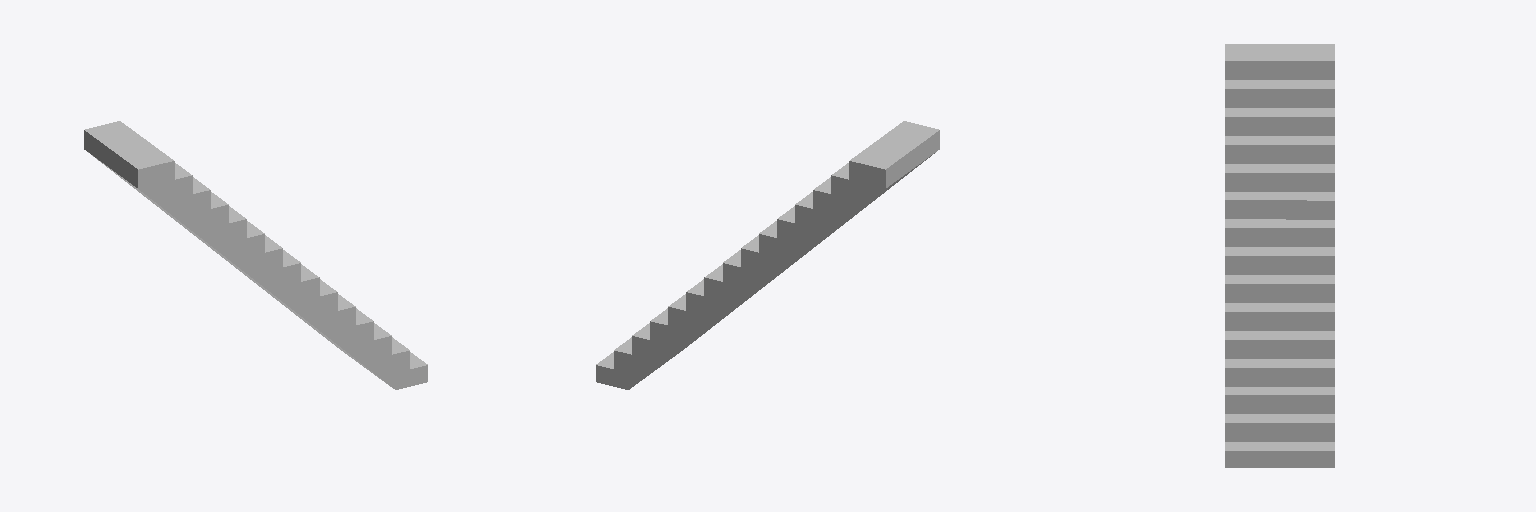
Rendered from TrapNaarBoven.obj.
3 views of the same model, side by side, from view 1: azimuth 30°, elevation 25°; view 2: azimuth 150°, elevation 25°; view 3: azimuth 270°, elevation 25° (orthographic).
Visible parts, largest first — view 1: trapNaarVerdieping1.002_Cube.005; view 2: trapNaarVerdieping1.002_Cube.005; view 3: trapNaarVerdieping1.002_Cube.005.
Part boxes in pixels (bbox=[...]): trapNaarVerdieping1.002_Cube.005: bbox=[84, 121, 427, 389]; trapNaarVerdieping1.002_Cube.005: bbox=[596, 121, 939, 389]; trapNaarVerdieping1.002_Cube.005: bbox=[1225, 44, 1334, 467].
Size of the model in its own units: 4.15 by 3.88 by 1.35.